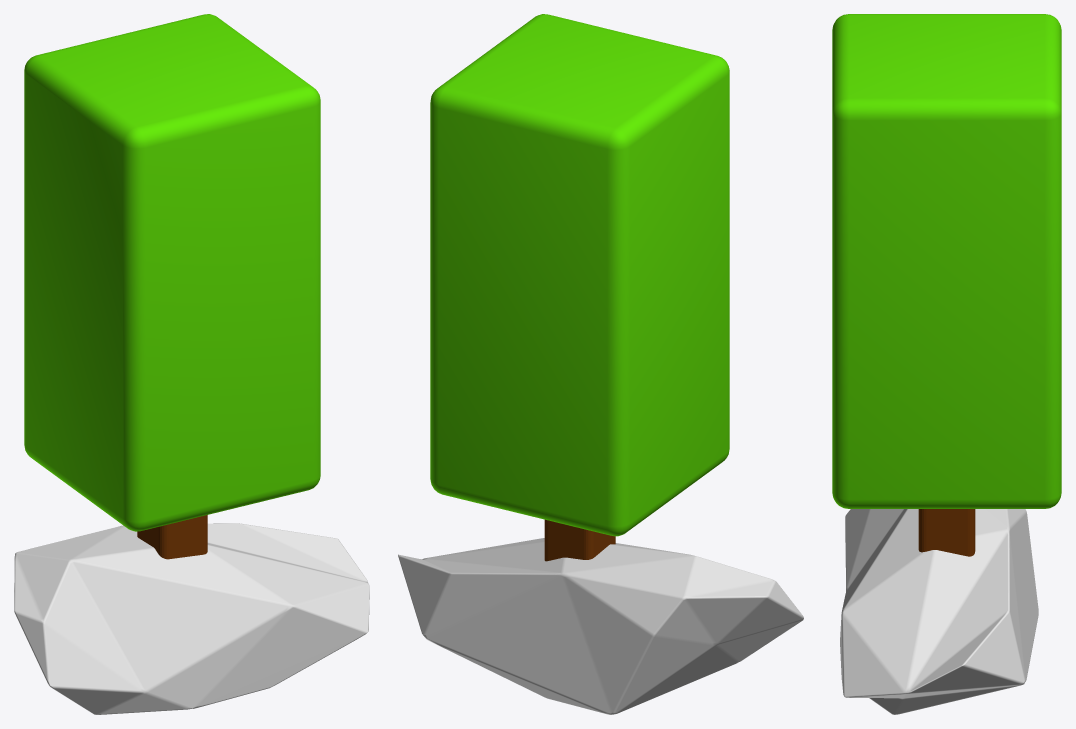
File: EnvironmentalObjects_LP.fbx
3 views of the same model, side by side, from view 1: azimuth 30°, elevation 25°; view 2: azimuth 150°, elevation 25°; view 3: azimuth 270°, elevation 25° (orthographic).
Visible parts, largest first — view 1: Tree, Stone; view 2: Tree, Stone; view 3: Tree, Stone.
Boxes of the visible parts, x1,y1,x2,y2 form: Tree: (24,14,320,559); Stone: (14,523,369,714); Tree: (430,14,729,561); Stone: (398,538,803,714); Tree: (832,14,1061,556); Stone: (840,509,1038,714).
Size of the model in its own units: 134 by 223 by 74.98.
